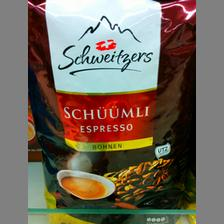Kaffee: (28, 0, 194, 220)
